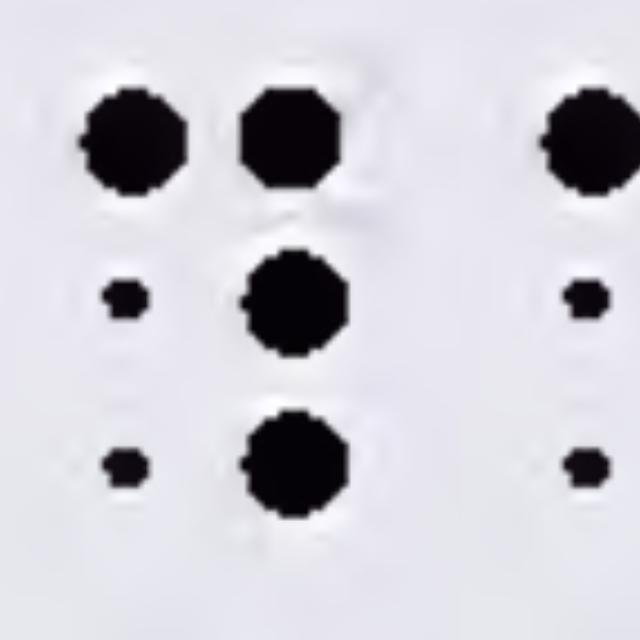pag: (75, 82, 352, 518)
